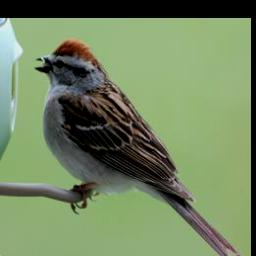Sparrow: (31, 36, 239, 256)
